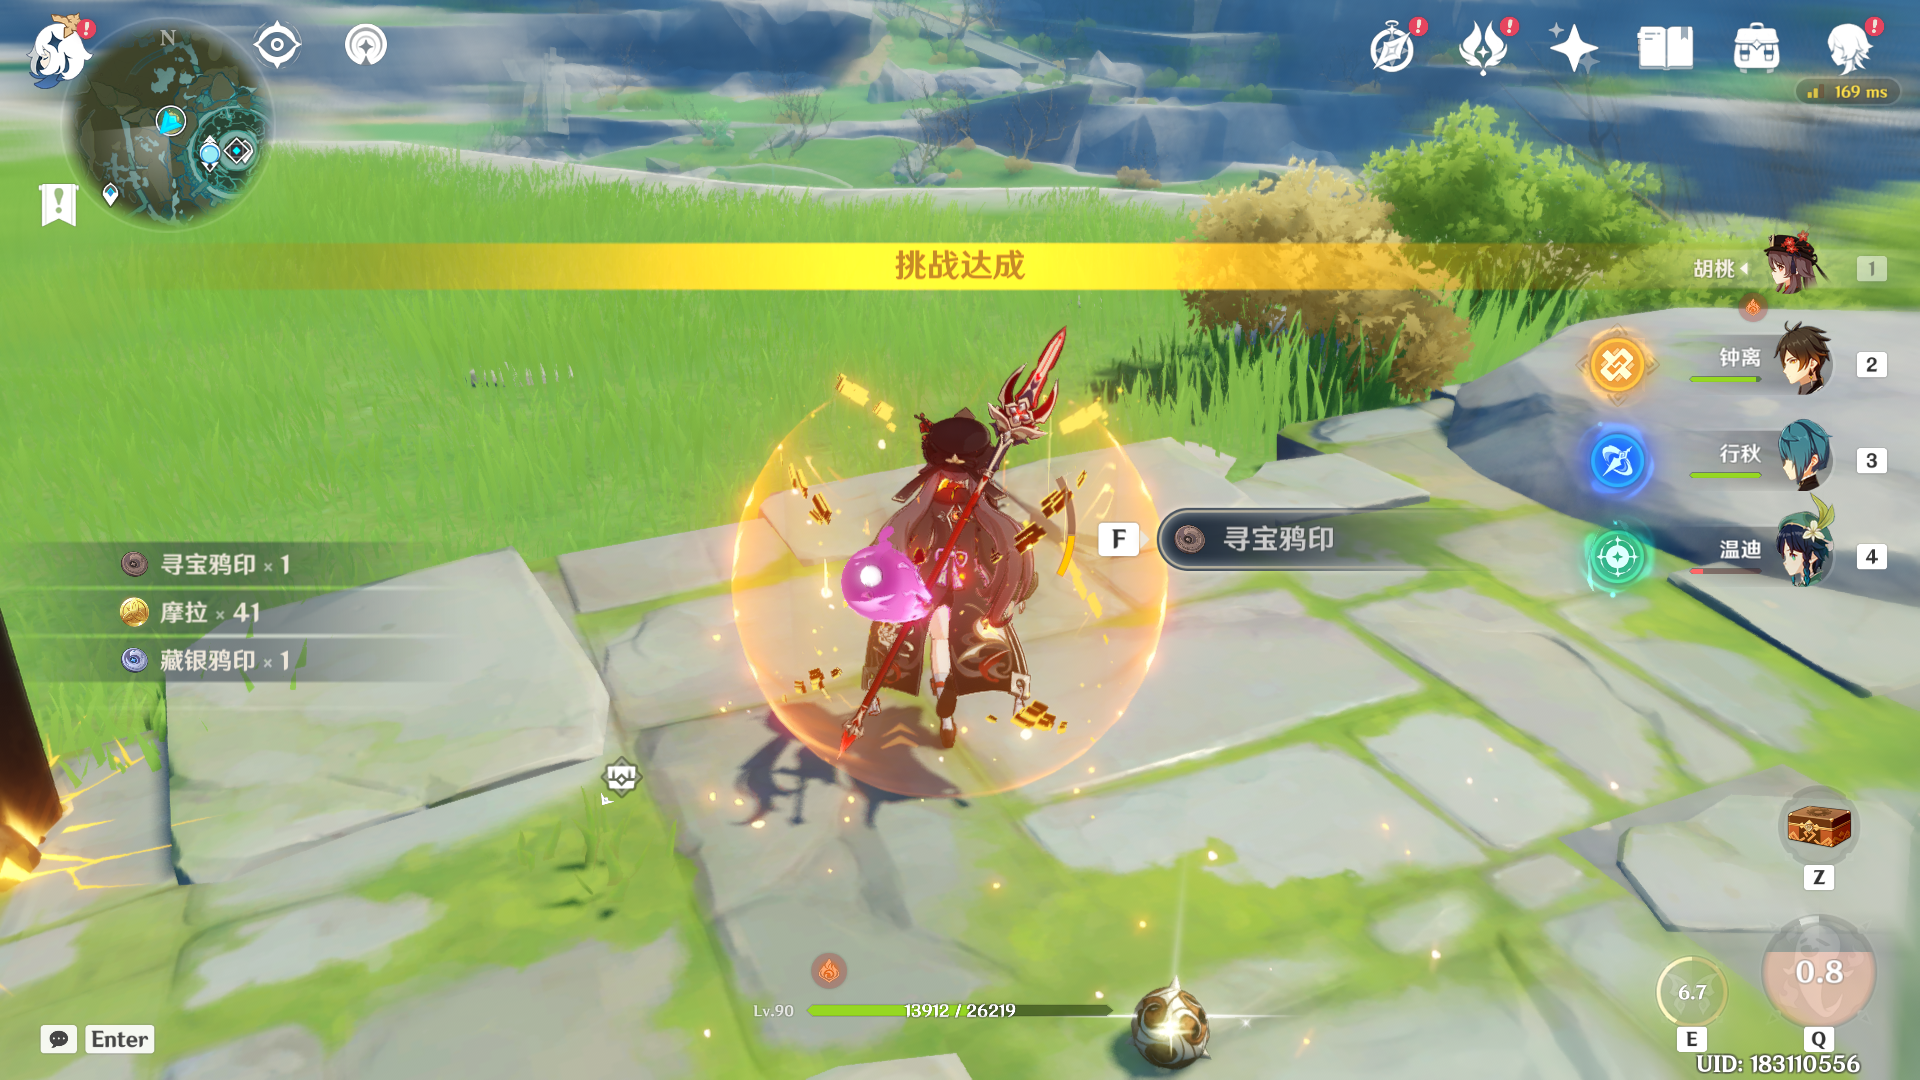character: (811, 385, 1069, 849)
